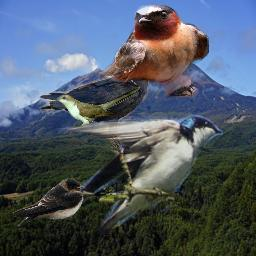Crow: (39, 52, 168, 158)
Cuckoo: (53, 86, 140, 126)
Swallow: (58, 113, 223, 239), (99, 5, 209, 97), (13, 178, 84, 227)
